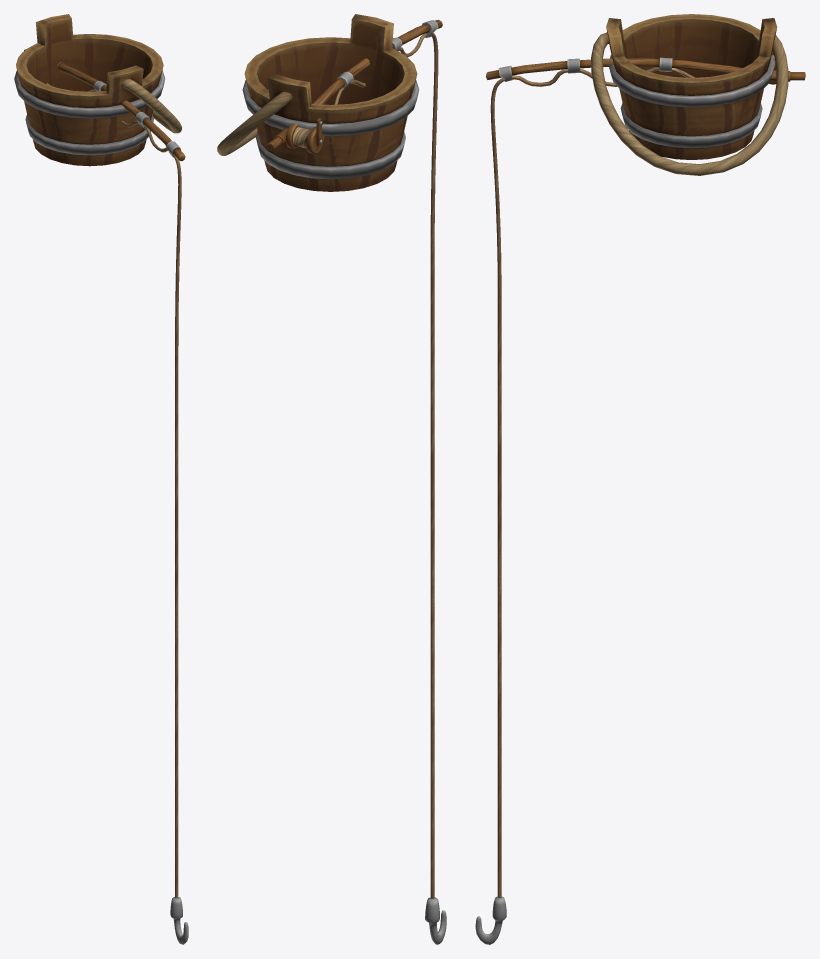
Rendered from PhishingItems.fbx.
The picture shows the model from 3 angles, left to right: view 1: azimuth 30°, elevation 25°; view 2: azimuth 150°, elevation 25°; view 3: azimuth 270°, elevation 25°; orthographic projection. The views are drawn at different scales.
Visible parts, largest first — view 1: Cylinder, BézierCurve.001, Cylinder.003, BézierCurve.002, BézierCurve, Cube; view 2: Cylinder, BézierCurve.001, Cylinder.003, BézierCurve.002, BézierCurve, Cylinder.008, Cube; view 3: Cylinder, BézierCurve.002, BézierCurve.001, Cylinder.003, BézierCurve, Cube.
Boxes of the visible parts, x1=… form: Cylinder: x1=14, y1=14, x2=165, y2=166; BézierCurve.001: x1=175, y1=355, x2=178, y2=898; Cylinder.003: x1=46, y1=62, x2=185, y2=161; BézierCurve.002: x1=121, y1=79, x2=181, y2=133; BézierCurve: x1=173, y1=154, x2=181, y2=355; Cube: x1=170, y1=897, x2=188, y2=944; Cylinder: x1=242, y1=14, x2=419, y2=191; BézierCurve.001: x1=430, y1=264, x2=434, y2=898; Cylinder.003: x1=267, y1=19, x2=442, y2=150; BézierCurve.002: x1=217, y1=91, x2=292, y2=155; BézierCurve: x1=430, y1=33, x2=438, y2=264; Cylinder.008: x1=285, y1=123, x2=324, y2=154; Cube: x1=425, y1=897, x2=446, y2=944; Cylinder: x1=606, y1=14, x2=776, y2=159; BézierCurve.002: x1=591, y1=32, x2=788, y2=175; BézierCurve.001: x1=497, y1=298, x2=501, y2=897; Cylinder.003: x1=486, y1=58, x2=805, y2=86; BézierCurve: x1=490, y1=78, x2=504, y2=298; Cube: x1=475, y1=896, x2=506, y2=944.
Size of the model in its own units: 153 by 839 by 273.
